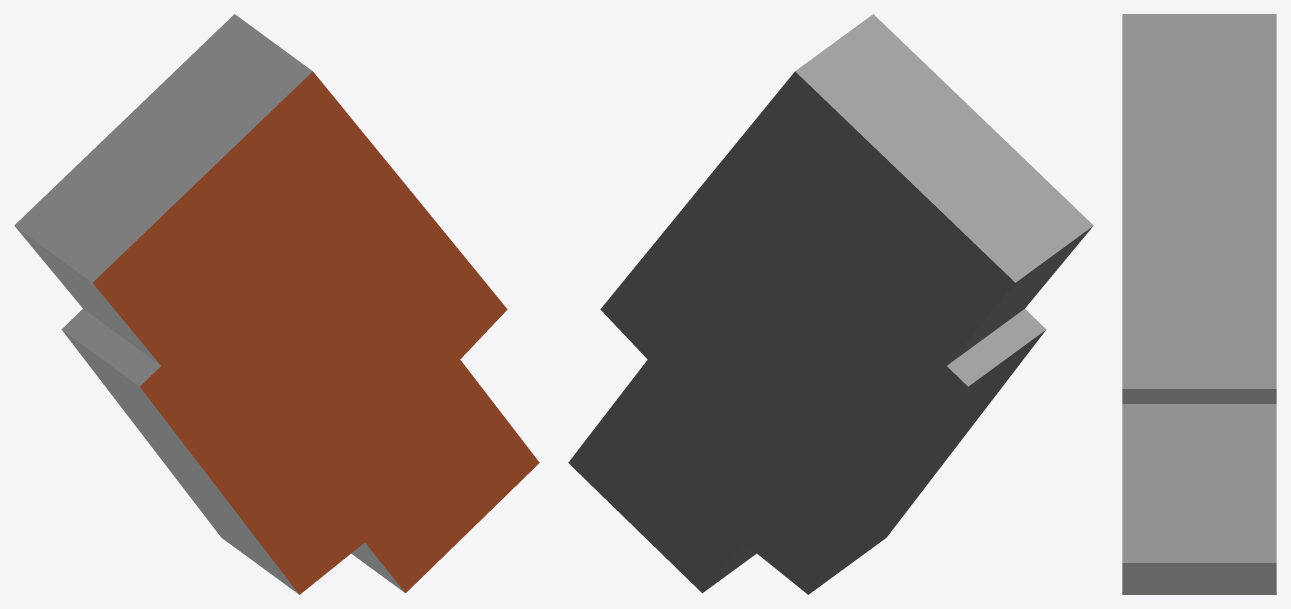
File: construction_2661_assumed_A_Casa_h6m.obj
3 renders of one model, left to right at view 1: azimuth 30°, elevation 25°; view 2: azimuth 150°, elevation 25°; view 3: azimuth 270°, elevation 25°, orthographic.
Visible parts, largest first — view 1: construction_2661_assumed_A_Casa; view 2: construction_2661_assumed_A_Casa; view 3: construction_2661_assumed_A_Casa.
Boxes of the visible parts, box(x1,y1,x2,y2) form: construction_2661_assumed_A_Casa: box(14, 14, 539, 594); construction_2661_assumed_A_Casa: box(568, 14, 1093, 594); construction_2661_assumed_A_Casa: box(1122, 14, 1276, 594).
Size of the model in its own units: 19.79 by 23.03 by 6.
